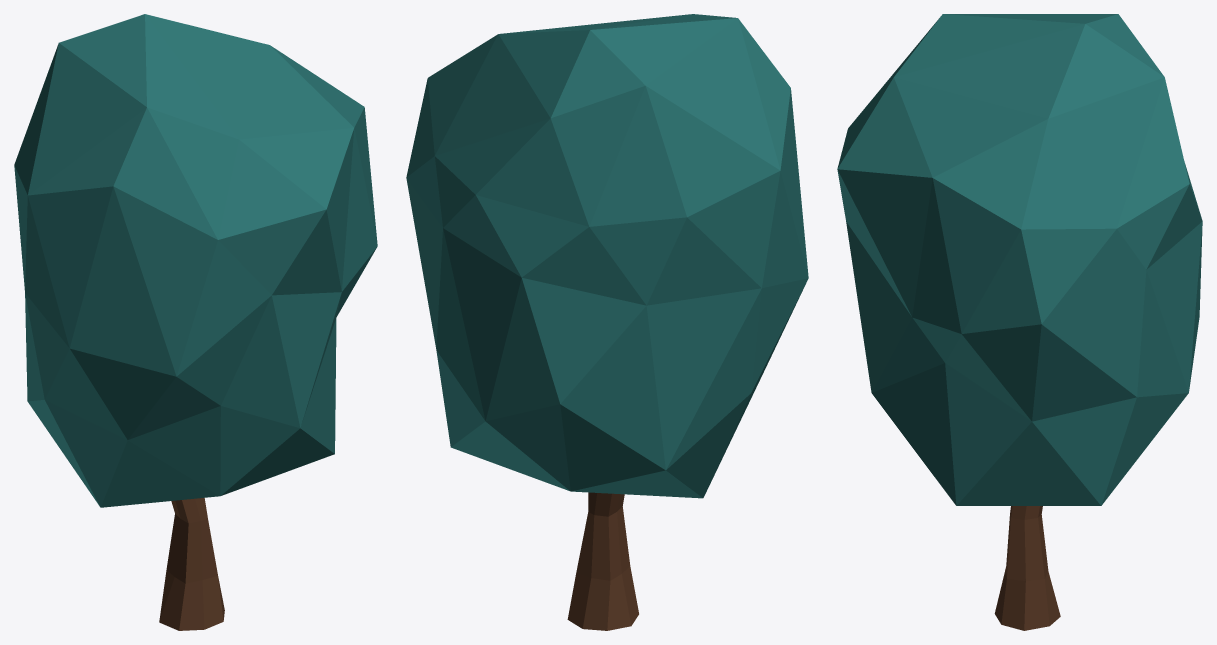
The model's file is Tree_43_Blue.fbx.
3 renders of one model, left to right at view 1: azimuth 30°, elevation 25°; view 2: azimuth 150°, elevation 25°; view 3: azimuth 270°, elevation 25°, orthographic. The views are drawn at different scales.
Parts seen in each view (by area): view 1: Tree_43_Blue_Part_1, Tree_43_Blue_Part_2; view 2: Tree_43_Blue_Part_1, Tree_43_Blue_Part_2; view 3: Tree_43_Blue_Part_1, Tree_43_Blue_Part_2.
Boxes of the visible parts, x1=… form: Tree_43_Blue_Part_1: x1=14, y1=14, x2=377, y2=507; Tree_43_Blue_Part_2: x1=159, y1=498, x2=224, y2=630; Tree_43_Blue_Part_1: x1=406, y1=14, x2=808, y2=498; Tree_43_Blue_Part_2: x1=567, y1=492, x2=638, y2=630; Tree_43_Blue_Part_1: x1=837, y1=14, x2=1202, y2=505; Tree_43_Blue_Part_2: x1=994, y1=506, x2=1060, y2=630.
Bounding box in the file's own units: 500 × 807 × 458.
